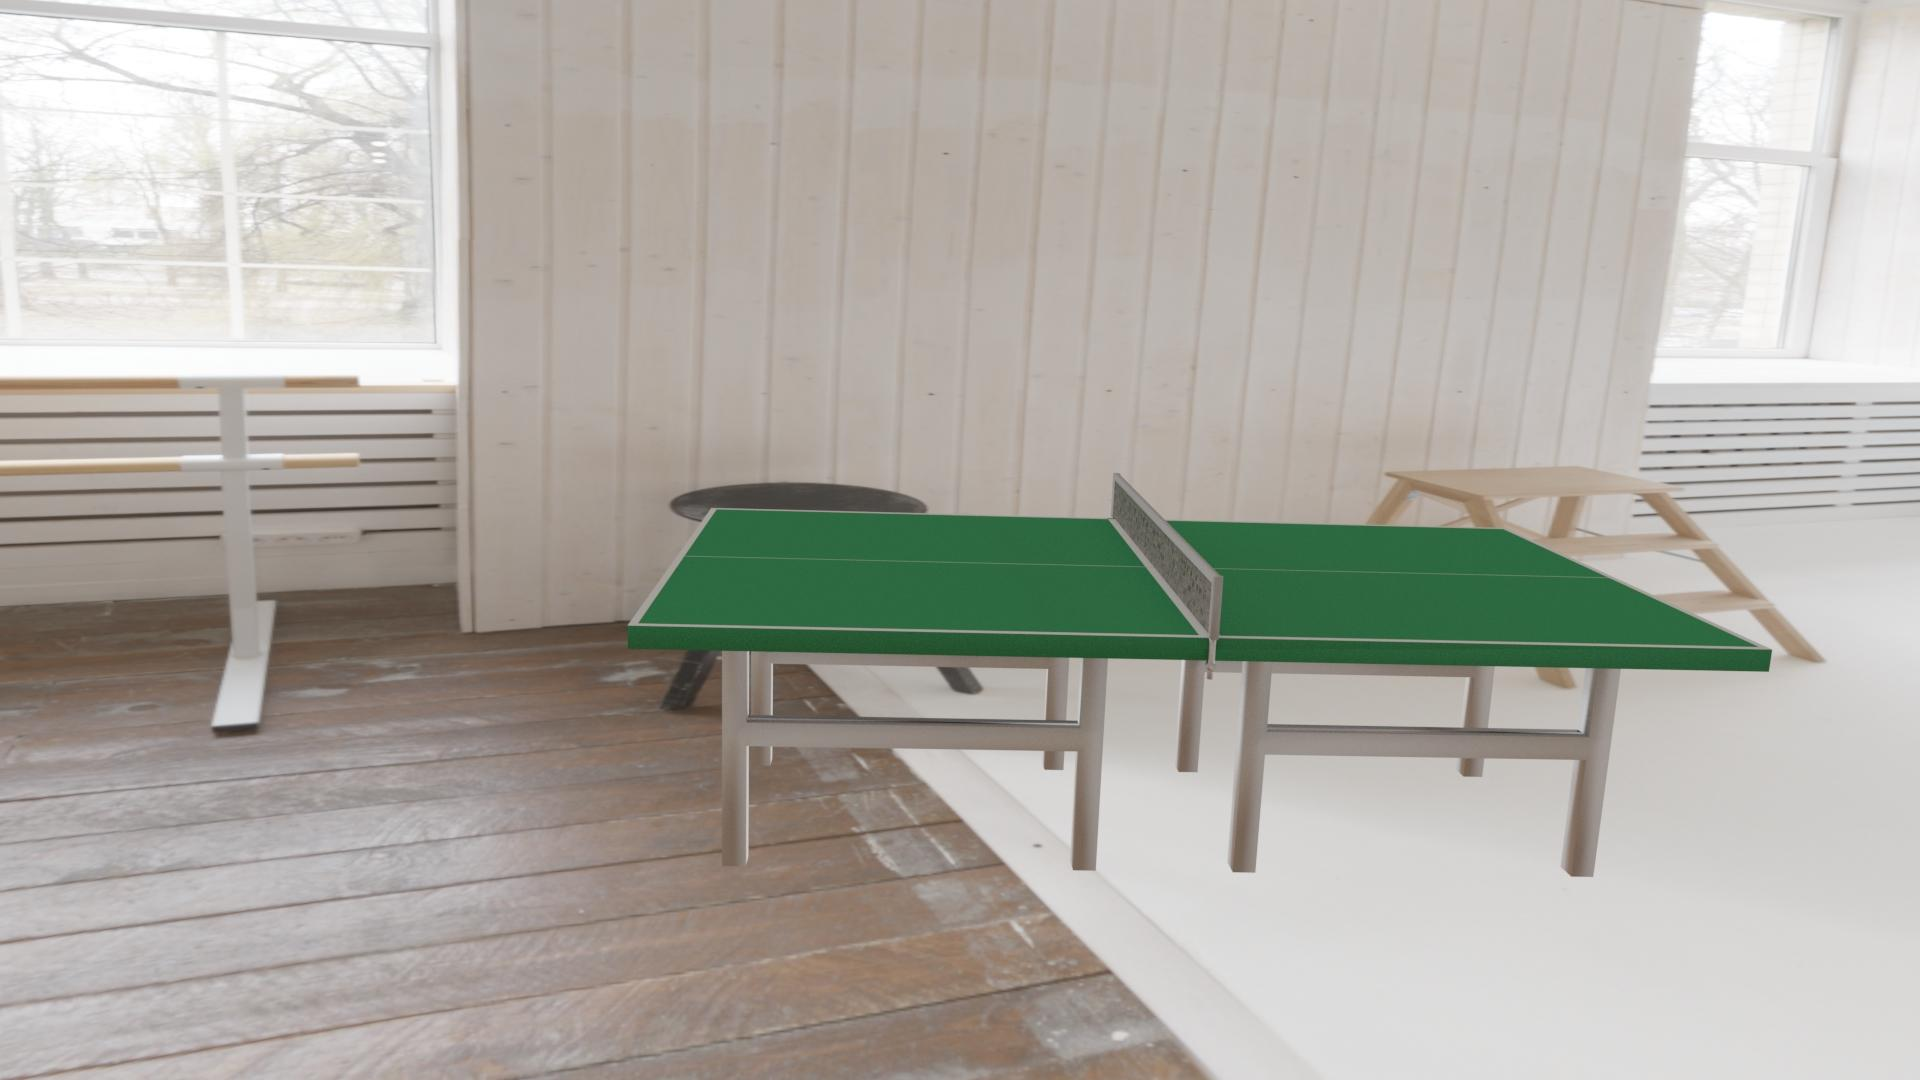table: (638, 509, 1759, 647)
